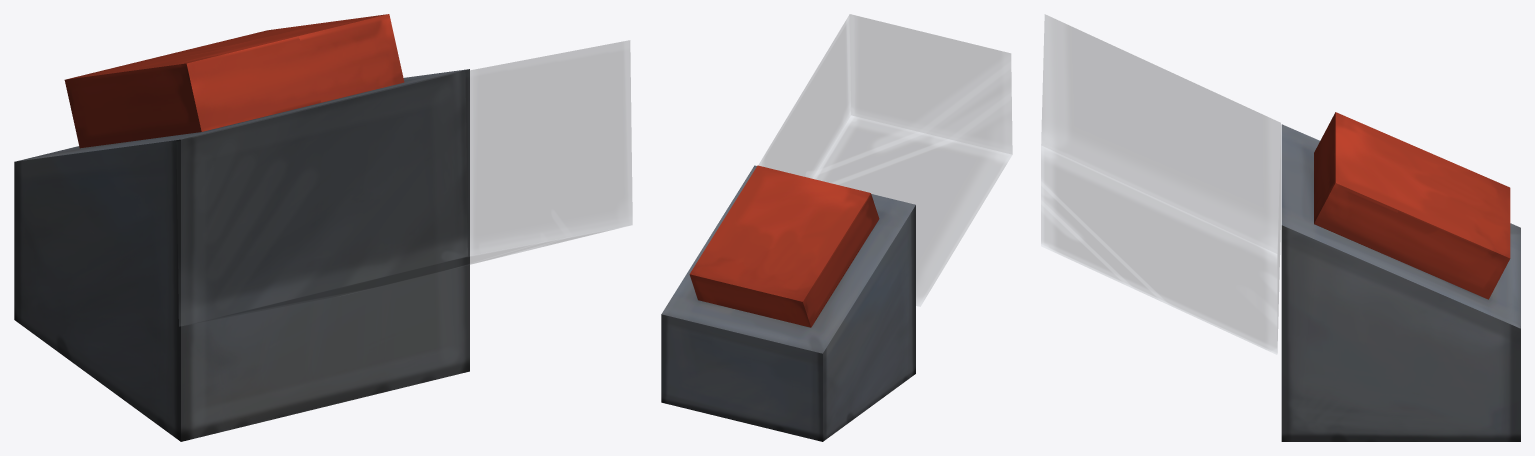
Rendered from button.fbx.
3 renders of one model, left to right at view 1: azimuth 30°, elevation 25°; view 2: azimuth 150°, elevation 25°; view 3: azimuth 270°, elevation 25°, orthographic. The views are drawn at different scales.
Visible parts, largest first — view 1: button_base, button_top, button_button; view 2: button_top, button_base, button_button; view 3: button_top, button_base, button_button.
Boxes of the visible parts, bbox=[...] form: button_base: bbox=[14, 69, 469, 441]; button_top: bbox=[176, 40, 632, 326]; button_button: bbox=[64, 14, 404, 148]; button_top: bbox=[759, 14, 1012, 306]; button_base: bbox=[661, 165, 915, 441]; button_button: bbox=[689, 165, 879, 327]; button_top: bbox=[1041, 15, 1280, 354]; button_base: bbox=[1281, 124, 1520, 441]; button_button: bbox=[1314, 112, 1510, 299].
Size of the model in its own units: 27.58 by 40.66 by 54.36.
3 materials, 3 textured.
